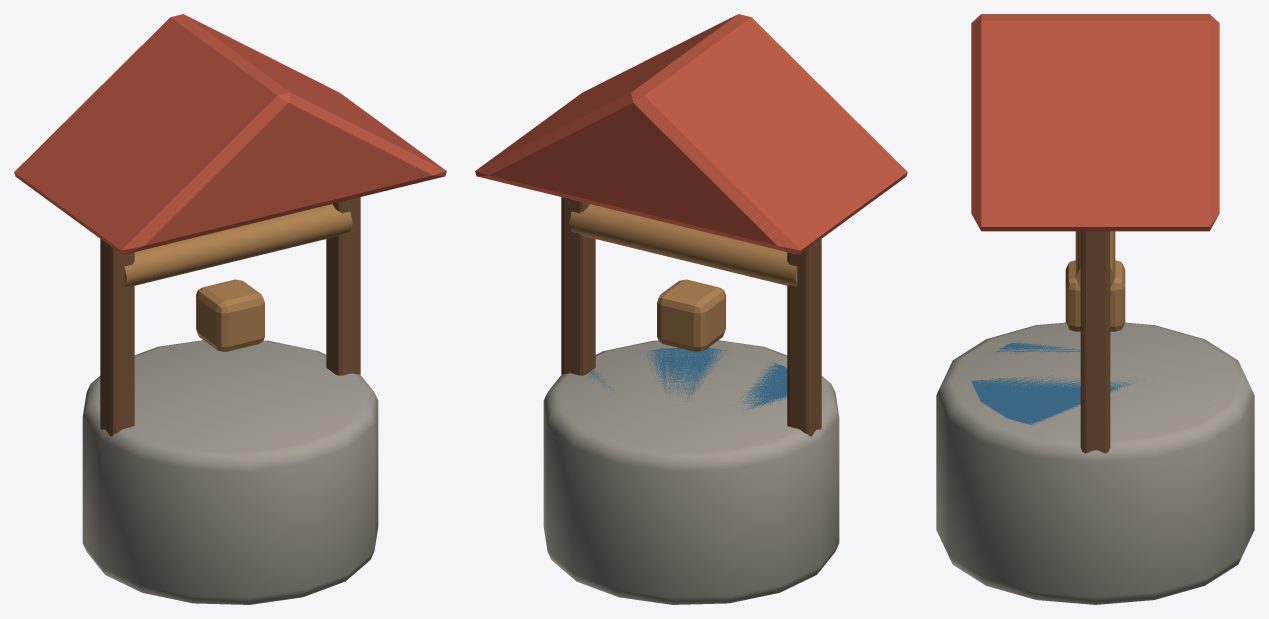
Rendered from well.fbx.
3 renders of one model, left to right at view 1: azimuth 30°, elevation 25°; view 2: azimuth 150°, elevation 25°; view 3: azimuth 270°, elevation 25°, orthographic. The views are drawn at different scales.
Parts seen in each view (by area): view 1: well; view 2: well; view 3: well.
Part boxes in pixels (x1,y1,x2,y2): well: (14,14,446,604); well: (475,14,907,604); well: (936,14,1254,604).
Bounding box in the file's own units: 0.8075 × 1.17 × 0.64.
